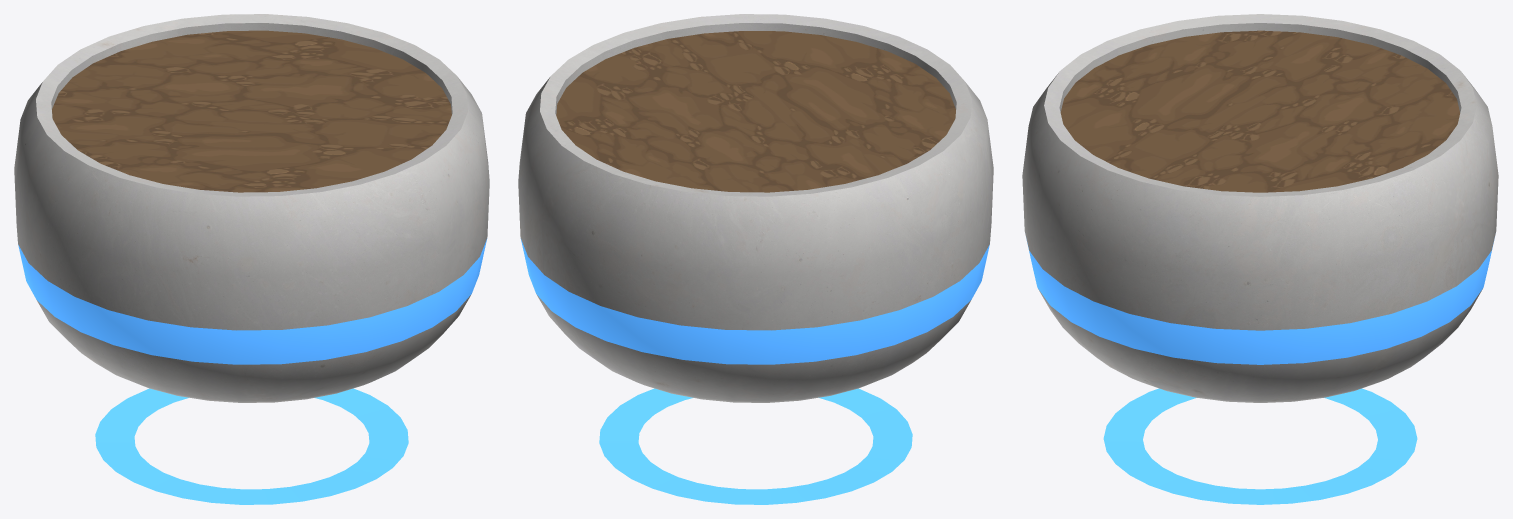
Rendered from Vaso.fbx.
3 renders of one model, left to right at view 1: azimuth 30°, elevation 25°; view 2: azimuth 150°, elevation 25°; view 3: azimuth 270°, elevation 25°, orthographic.
Visible parts, largest first — view 1: Vaso; view 2: Vaso; view 3: Vaso.
Boxes of the visible parts, x1=… form: Vaso: x1=14, y1=14, x2=489, y2=504; Vaso: x1=518, y1=14, x2=993, y2=504; Vaso: x1=1022, y1=14, x2=1498, y2=504.
Size of the model in its own units: 0.5423 by 0.4199 by 0.5423.
